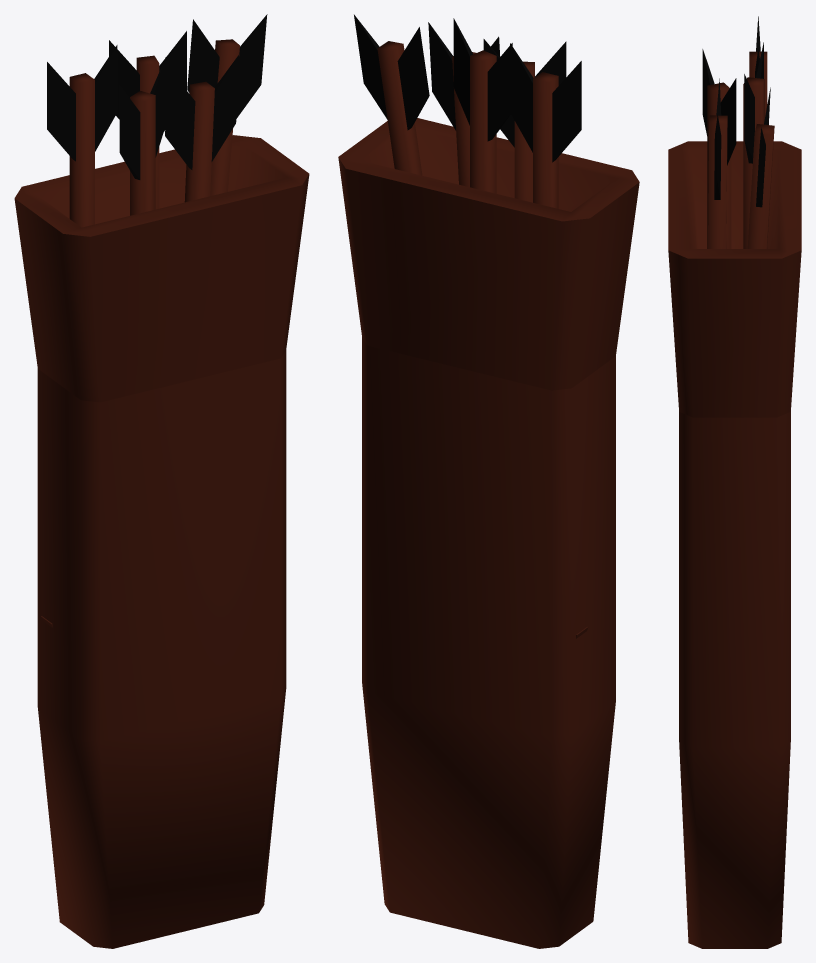
The model's file is quiver.fbx.
3 renders of one model, left to right at view 1: azimuth 30°, elevation 25°; view 2: azimuth 150°, elevation 25°; view 3: azimuth 270°, elevation 25°, orthographic. The views are drawn at different scales.
Visible parts, largest first — view 1: quiver; view 2: quiver; view 3: quiver.
Boxes of the visible parts, <box> form: quiver: <box>14,14,309,948</box>; quiver: <box>338,14,639,948</box>; quiver: <box>668,16,801,948</box>.
Bounding box in the file's own units: 0.199 × 0.6731 × 0.0957.
